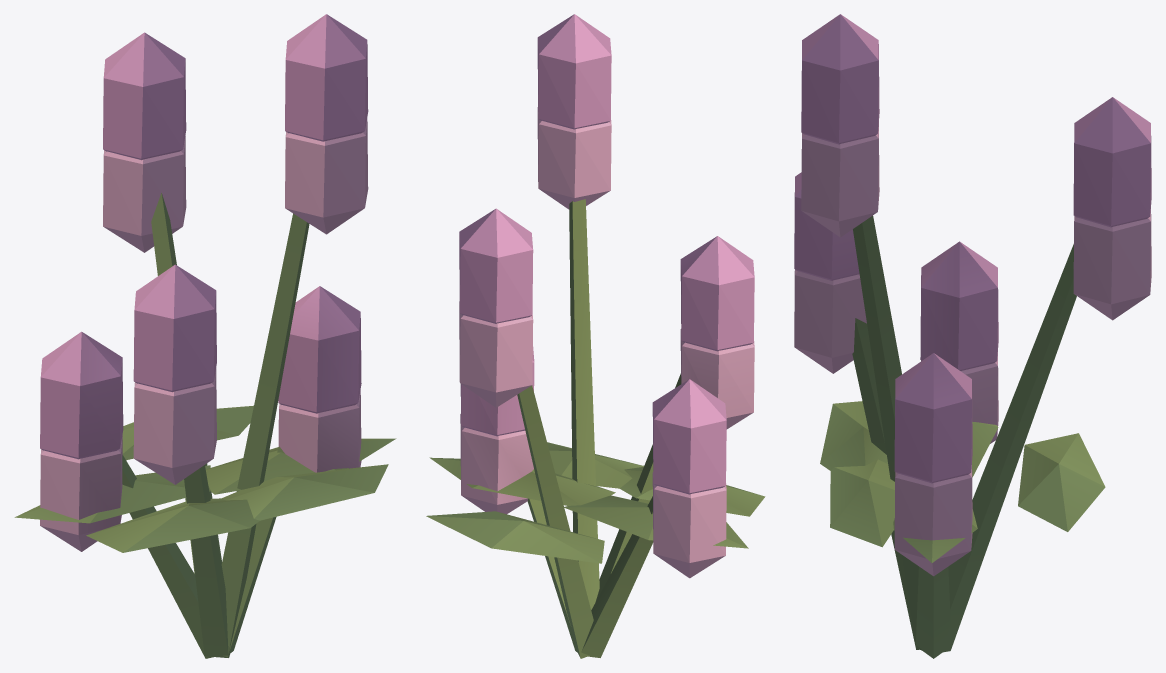
File: find_salt_bloom.glb
3 renders of one model, left to right at view 1: azimuth 30°, elevation 25°; view 2: azimuth 150°, elevation 25°; view 3: azimuth 270°, elevation 25°, orthographic. The views are drawn at different scales.
Visible parts, largest first — view 1: find_salt_bloom; view 2: find_salt_bloom; view 3: find_salt_bloom.
Part boxes in pixels (x1,y1,x2,y2): find_salt_bloom: (14, 14, 396, 658); find_salt_bloom: (426, 14, 765, 658); find_salt_bloom: (794, 14, 1151, 658).
Bounding box in the file's own units: 0.4237 × 0.7267 × 0.3518.
